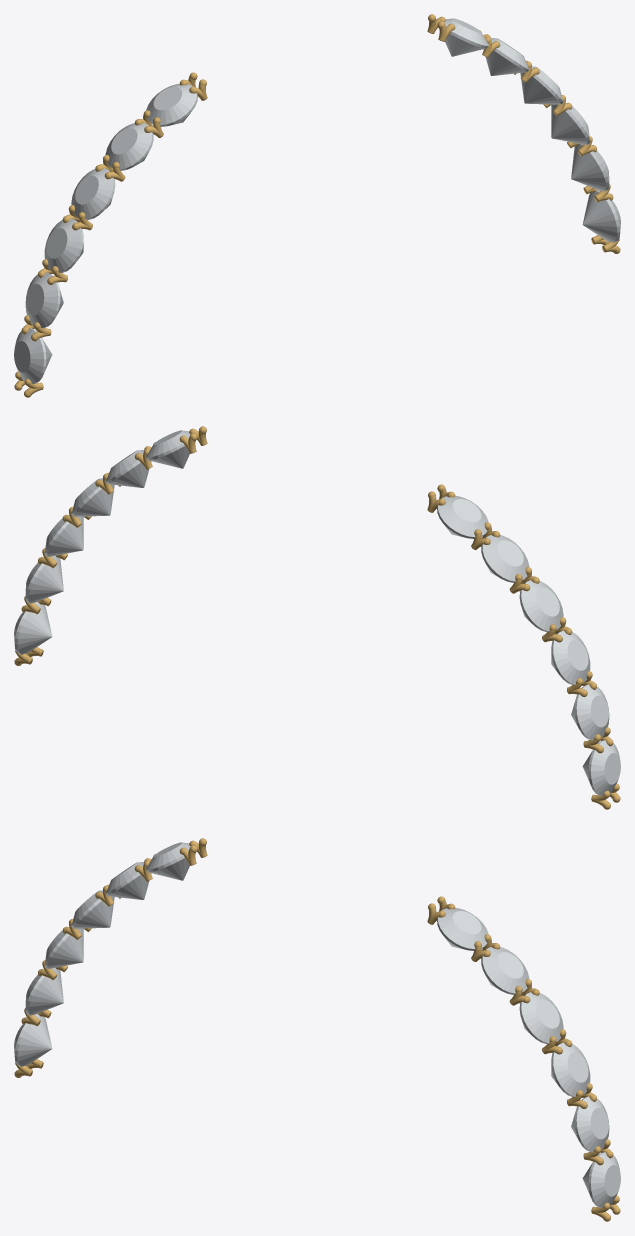
File: accents-shared-prong.glb
3 renders of one model, top to bottom at view 1: azimuth 30°, elevation 25°; view 2: azimuth 150°, elevation 25°; view 3: azimuth 330°, elevation 25°, orthographic.
Visible parts, largest first — view 1: Gem.002, Gem.001, Gem.003, Gem, Gem.004, Gem.005, Gem.011, Gem.010, Gem.009, Gem.006, Gem.008, Gem.007; view 2: Gem.002, Gem.001, Gem.003, Gem, Gem.004, Gem.005, Gem.011, Gem.010, Gem.009, Gem.006, Gem.008, Gem.007; view 3: Gem.008, Gem.007, Gem.009, Gem.006, Gem.010, Gem.011, Gem.005, Gem.004, Gem.003, Gem, Gem.002, Gem.001.
Part boxes in pixels (left/top/right/bottom): Gem.002: left=71, top=168, right=115, bottom=219; Gem.001: left=105, top=123, right=153, bottom=170; Gem.003: left=44, top=218, right=83, bottom=272; Gem: left=146, top=83, right=197, bottom=126; Gem.004: left=25, top=272, right=63, bottom=328; Gem.005: left=14, top=328, right=52, bottom=384; Gem.011: left=582, top=190, right=620, bottom=242; Gem.010: left=571, top=144, right=609, bottom=191; Gem.009: left=551, top=104, right=590, bottom=144; Gem.006: left=444, top=18, right=488, bottom=56; Gem.008: left=520, top=66, right=563, bottom=104; Gem.007: left=483, top=38, right=529, bottom=75; Gem.002: left=519, top=580, right=563, bottom=631; Gem.001: left=481, top=535, right=529, bottom=582; Gem.003: left=551, top=630, right=590, bottom=684; Gem: left=437, top=495, right=488, bottom=538; Gem.004: left=571, top=684, right=609, bottom=740; Gem.005: left=582, top=740, right=620, bottom=796; Gem.011: left=14, top=602, right=52, bottom=654; Gem.010: left=25, top=556, right=63, bottom=603; Gem.009: left=44, top=516, right=83, bottom=556; Gem.006: left=146, top=430, right=190, bottom=468; Gem.008: left=71, top=478, right=114, bottom=516; Gem.007: left=105, top=450, right=151, bottom=487; Gem.008: left=519, top=992, right=563, bottom=1043; Gem.007: left=481, top=947, right=529, bottom=994; Gem.009: left=551, top=1042, right=590, bottom=1096; Gem.006: left=437, top=907, right=488, bottom=950; Gem.010: left=571, top=1096, right=609, bottom=1152; Gem.011: left=582, top=1152, right=620, bottom=1208; Gem.005: left=14, top=1014, right=52, bottom=1066; Gem.004: left=25, top=968, right=63, bottom=1015; Gem.003: left=44, top=928, right=83, bottom=968; Gem: left=146, top=842, right=190, bottom=880; Gem.002: left=71, top=890, right=114, bottom=928; Gem.001: left=105, top=862, right=151, bottom=899.
Size of the model in its own units: 19.92 by 8.79 by 1.65.
